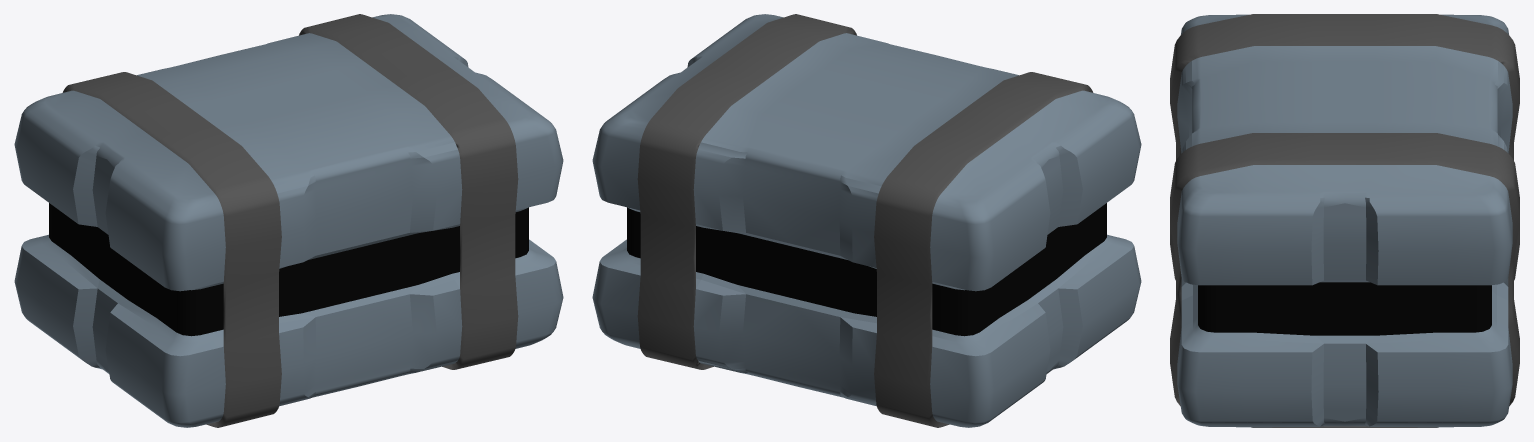
Rendered from COntenedor_5.fbx.
The picture shows the model from 3 angles, left to right: view 1: azimuth 30°, elevation 25°; view 2: azimuth 150°, elevation 25°; view 3: azimuth 270°, elevation 25°; orthographic projection. The views are drawn at different scales.
Visible parts, largest first — view 1: Contenedor_Cubo; view 2: Contenedor_Cubo; view 3: Contenedor_Cubo.
Part boxes in pixels (bbox=[...]): Contenedor_Cubo: bbox=[14, 14, 563, 427]; Contenedor_Cubo: bbox=[592, 14, 1141, 427]; Contenedor_Cubo: bbox=[1170, 14, 1519, 427].
Size of the model in its own units: 0.0803 by 0.0501 by 0.0591.
